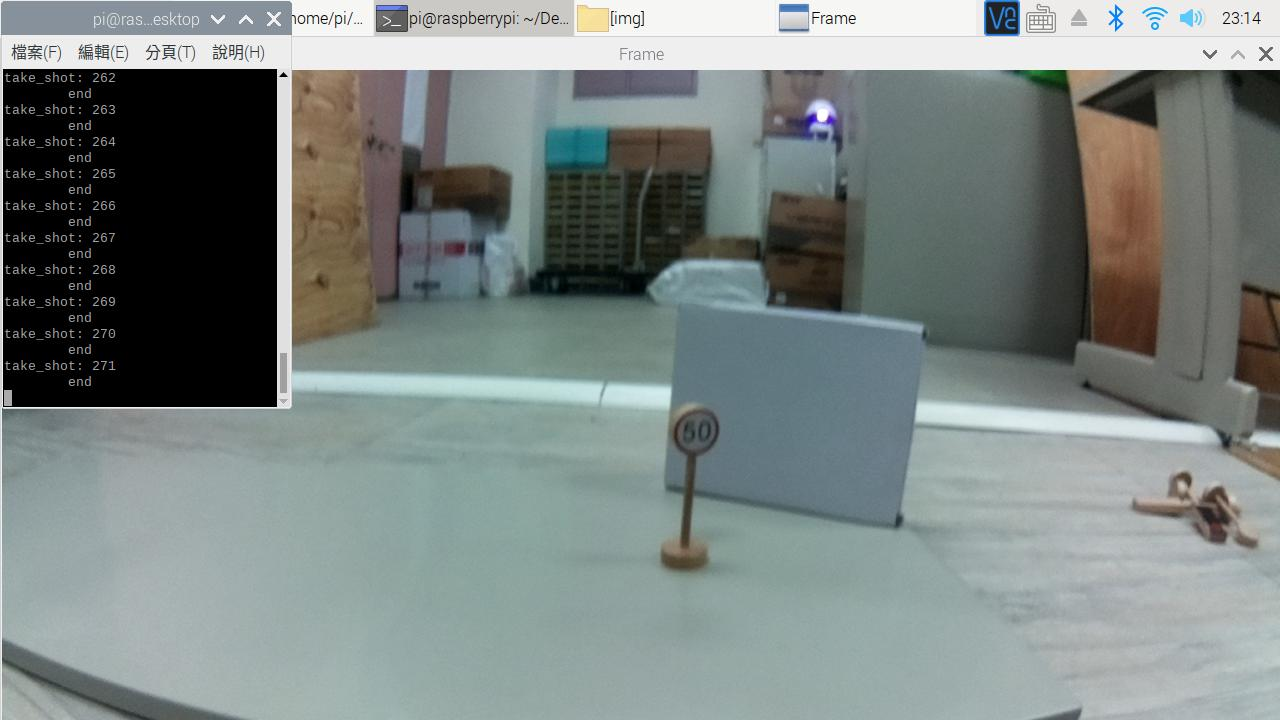Speed50: (653, 394, 740, 466)
